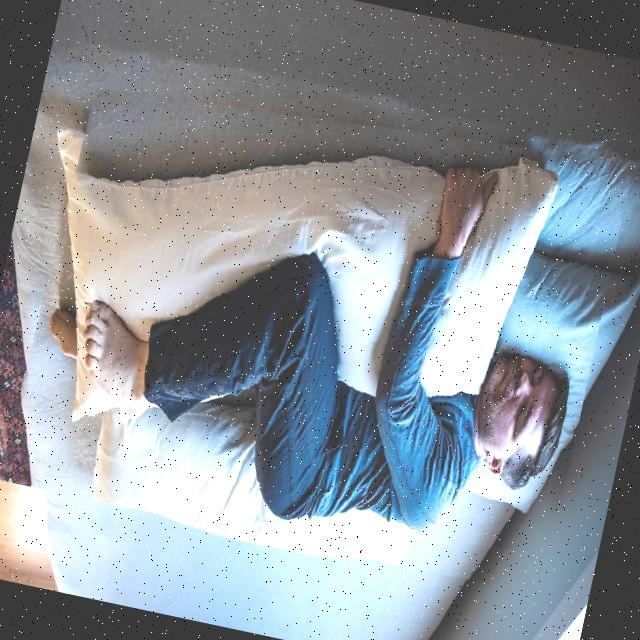people: (0, 44, 634, 595)
